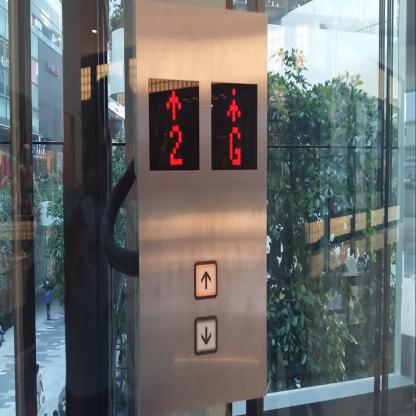down: (194, 316, 218, 354)
led: (148, 78, 200, 170), (212, 82, 258, 170)
up: (194, 261, 217, 299)
